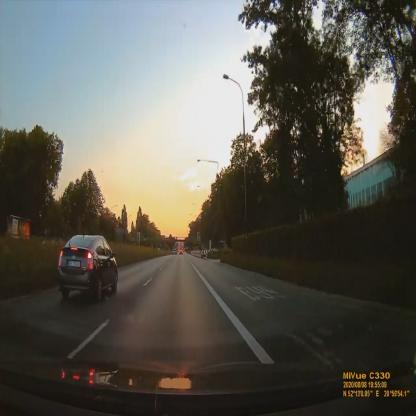cars: (58, 234, 118, 298)
